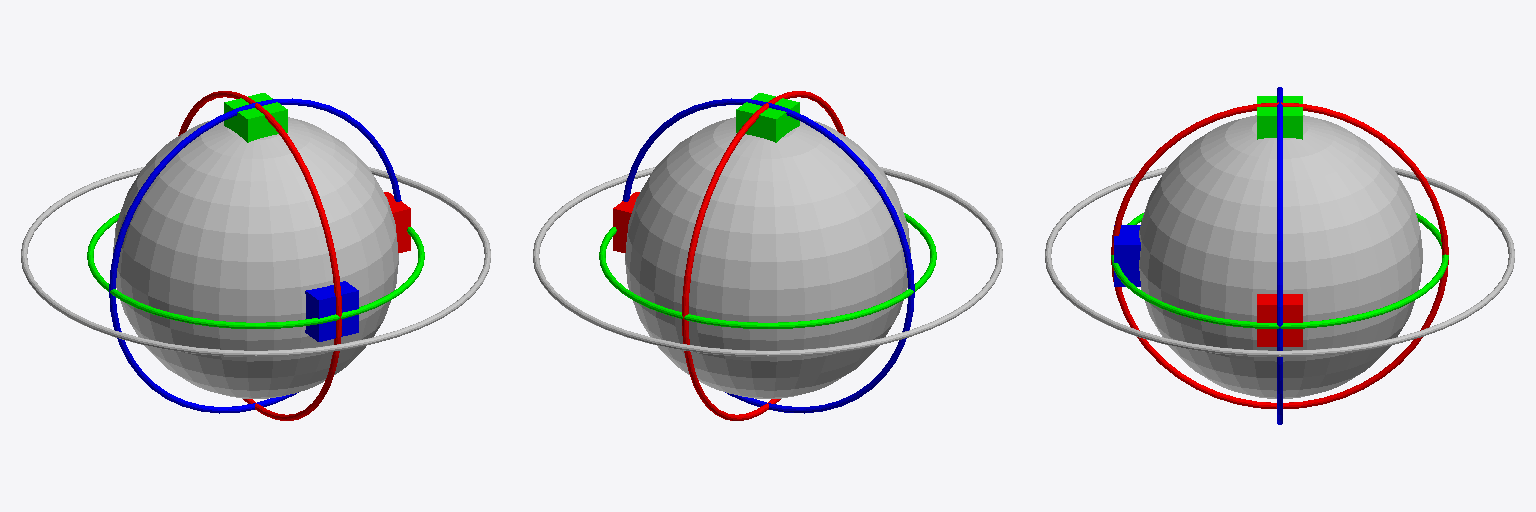
File: gizmo_rotate.obj
3 renders of one model, left to right at view 1: azimuth 30°, elevation 25°; view 2: azimuth 150°, elevation 25°; view 3: azimuth 270°, elevation 25°, orthographic.
Parts seen in each view (by area): view 1: trackball, rot_axis_viewport, rot_axis_z, rot_axis_x, rot_axis_y, scale_axis_z, scale_axis_y, scale_axis_x; view 2: trackball, rot_axis_viewport, rot_axis_z, rot_axis_x, rot_axis_y, scale_axis_y, scale_axis_x; view 3: trackball, rot_axis_x, rot_axis_viewport, rot_axis_y, rot_axis_z, scale_axis_x, scale_axis_y, scale_axis_z.
Part boxes in pixels (x1,y1,x2,y2): trackball: (113,117,398,398); rot_axis_viewport: (21,167,490,356); rot_axis_z: (109,98,401,413); rot_axis_x: (178,91,341,420); rot_axis_y: (87,213,424,328); scale_axis_z: (305,281,358,341); scale_axis_y: (224,93,287,142); scale_axis_x: (384,192,410,252); trackball: (625,117,910,398); rot_axis_viewport: (533,167,1002,356); rot_axis_z: (622,98,914,413); rot_axis_x: (682,91,845,420); rot_axis_y: (599,213,936,328); scale_axis_y: (736,93,799,142); scale_axis_x: (613,192,639,252); trackball: (1139,115,1422,398); rot_axis_x: (1111,102,1448,408); rot_axis_viewport: (1045,167,1514,356); rot_axis_y: (1111,213,1448,328); rot_axis_z: (1277,87,1282,424); scale_axis_x: (1257,294,1302,346); scale_axis_y: (1257,96,1302,139); scale_axis_z: (1114,225,1140,286).
Bounding box in the file's own units: 2.84 × 2.04 × 2.84.